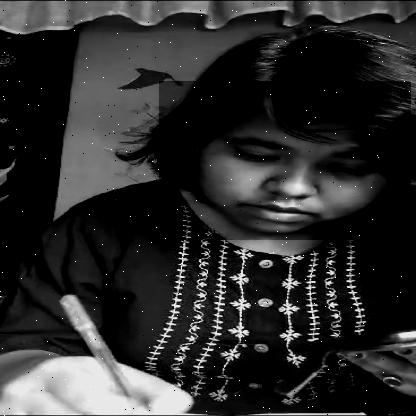Normal: (158, 81, 410, 240)
